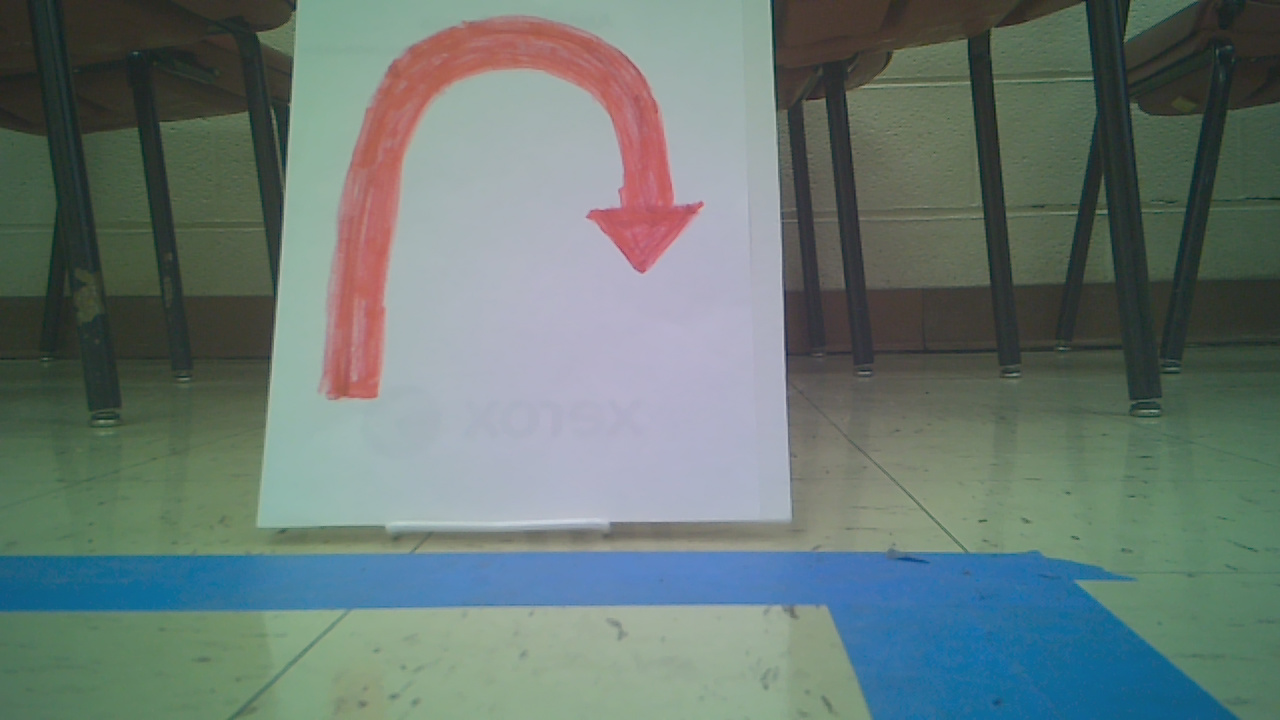uturn: (341, 10, 708, 395)
